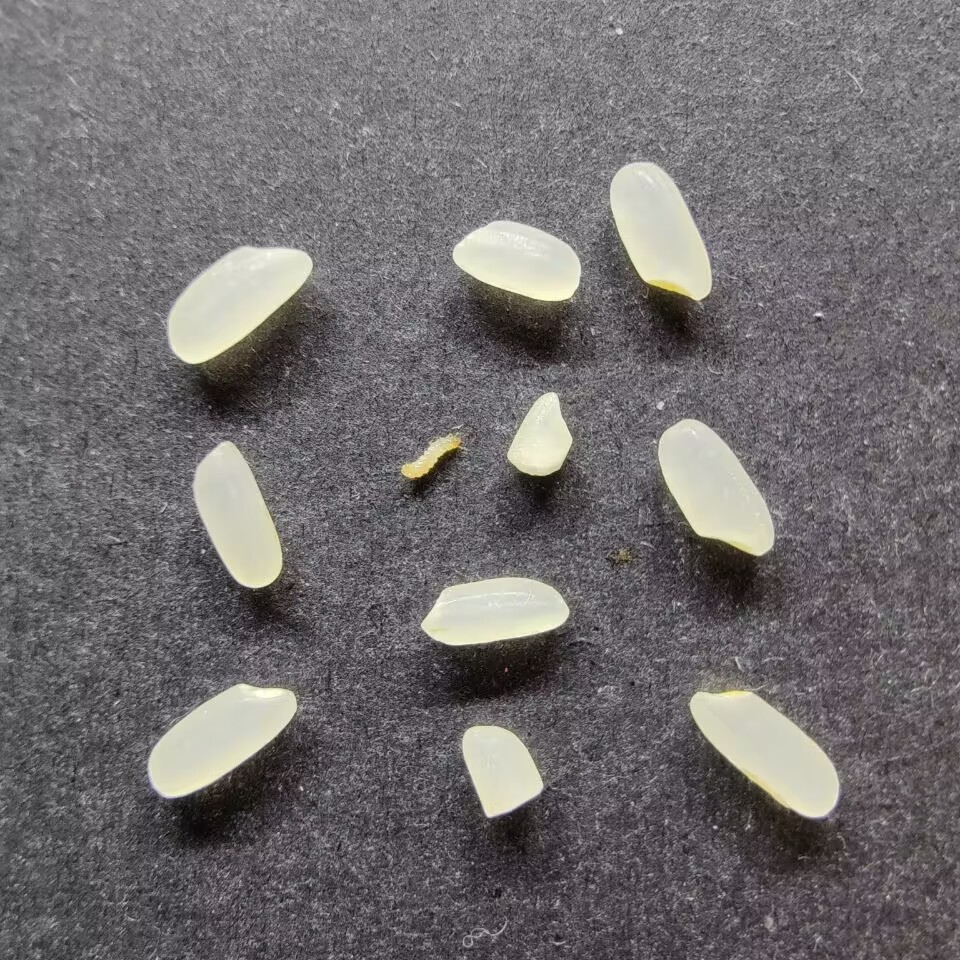broken: (459, 723, 546, 820), (505, 389, 574, 478)
others: (398, 428, 468, 484)
rice: (687, 688, 841, 820), (145, 681, 298, 799), (165, 243, 312, 365), (655, 416, 776, 557), (607, 160, 715, 301), (190, 439, 285, 590), (450, 218, 582, 302), (419, 575, 572, 647)
